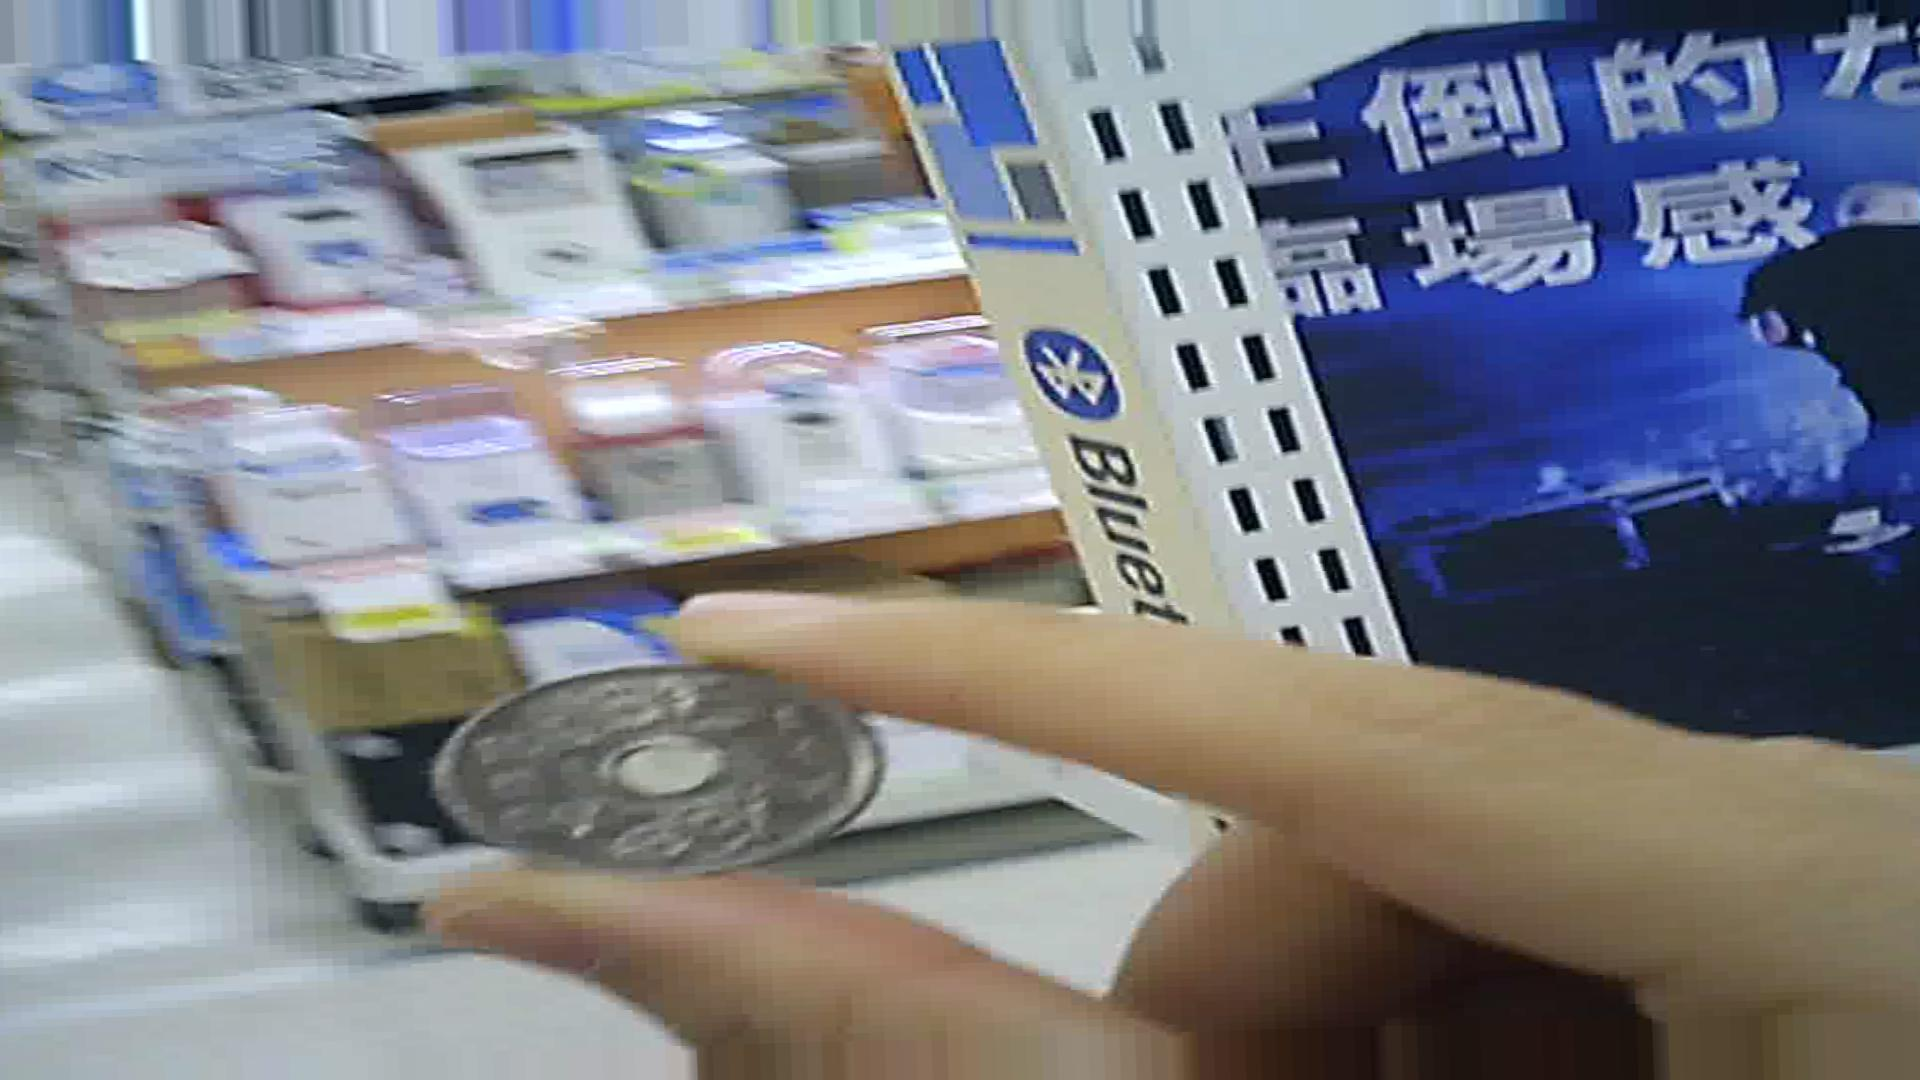50 Yen: (436, 658, 884, 889)
